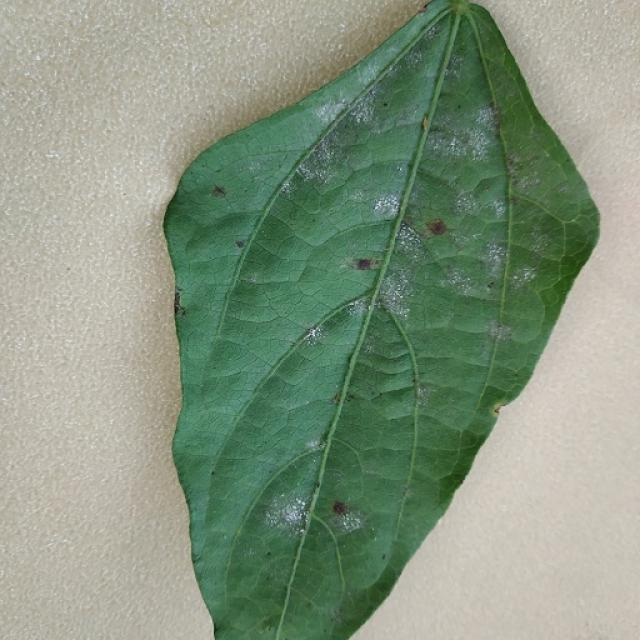Blackgram: (164, 0, 598, 639)
Powdery_Mildew: (328, 72, 407, 159), (383, 223, 462, 305), (438, 247, 495, 299), (433, 117, 491, 167), (306, 119, 357, 175), (387, 37, 438, 93), (371, 179, 414, 221), (379, 275, 413, 314), (311, 94, 349, 128), (327, 503, 365, 535), (394, 224, 425, 255), (454, 190, 486, 218), (482, 243, 508, 276), (340, 297, 368, 323), (513, 169, 542, 191), (510, 265, 536, 289), (302, 324, 325, 347), (283, 503, 305, 525), (296, 160, 317, 182), (488, 323, 511, 342), (415, 384, 430, 405), (280, 179, 295, 198), (310, 438, 327, 452), (243, 273, 260, 285)
